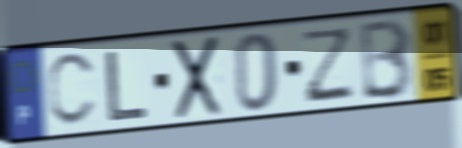0: (231, 29, 280, 115)
B: (359, 15, 416, 103)
C: (45, 49, 99, 130)
L: (105, 48, 151, 124)
X: (171, 32, 224, 123)
Z: (303, 24, 355, 106)
